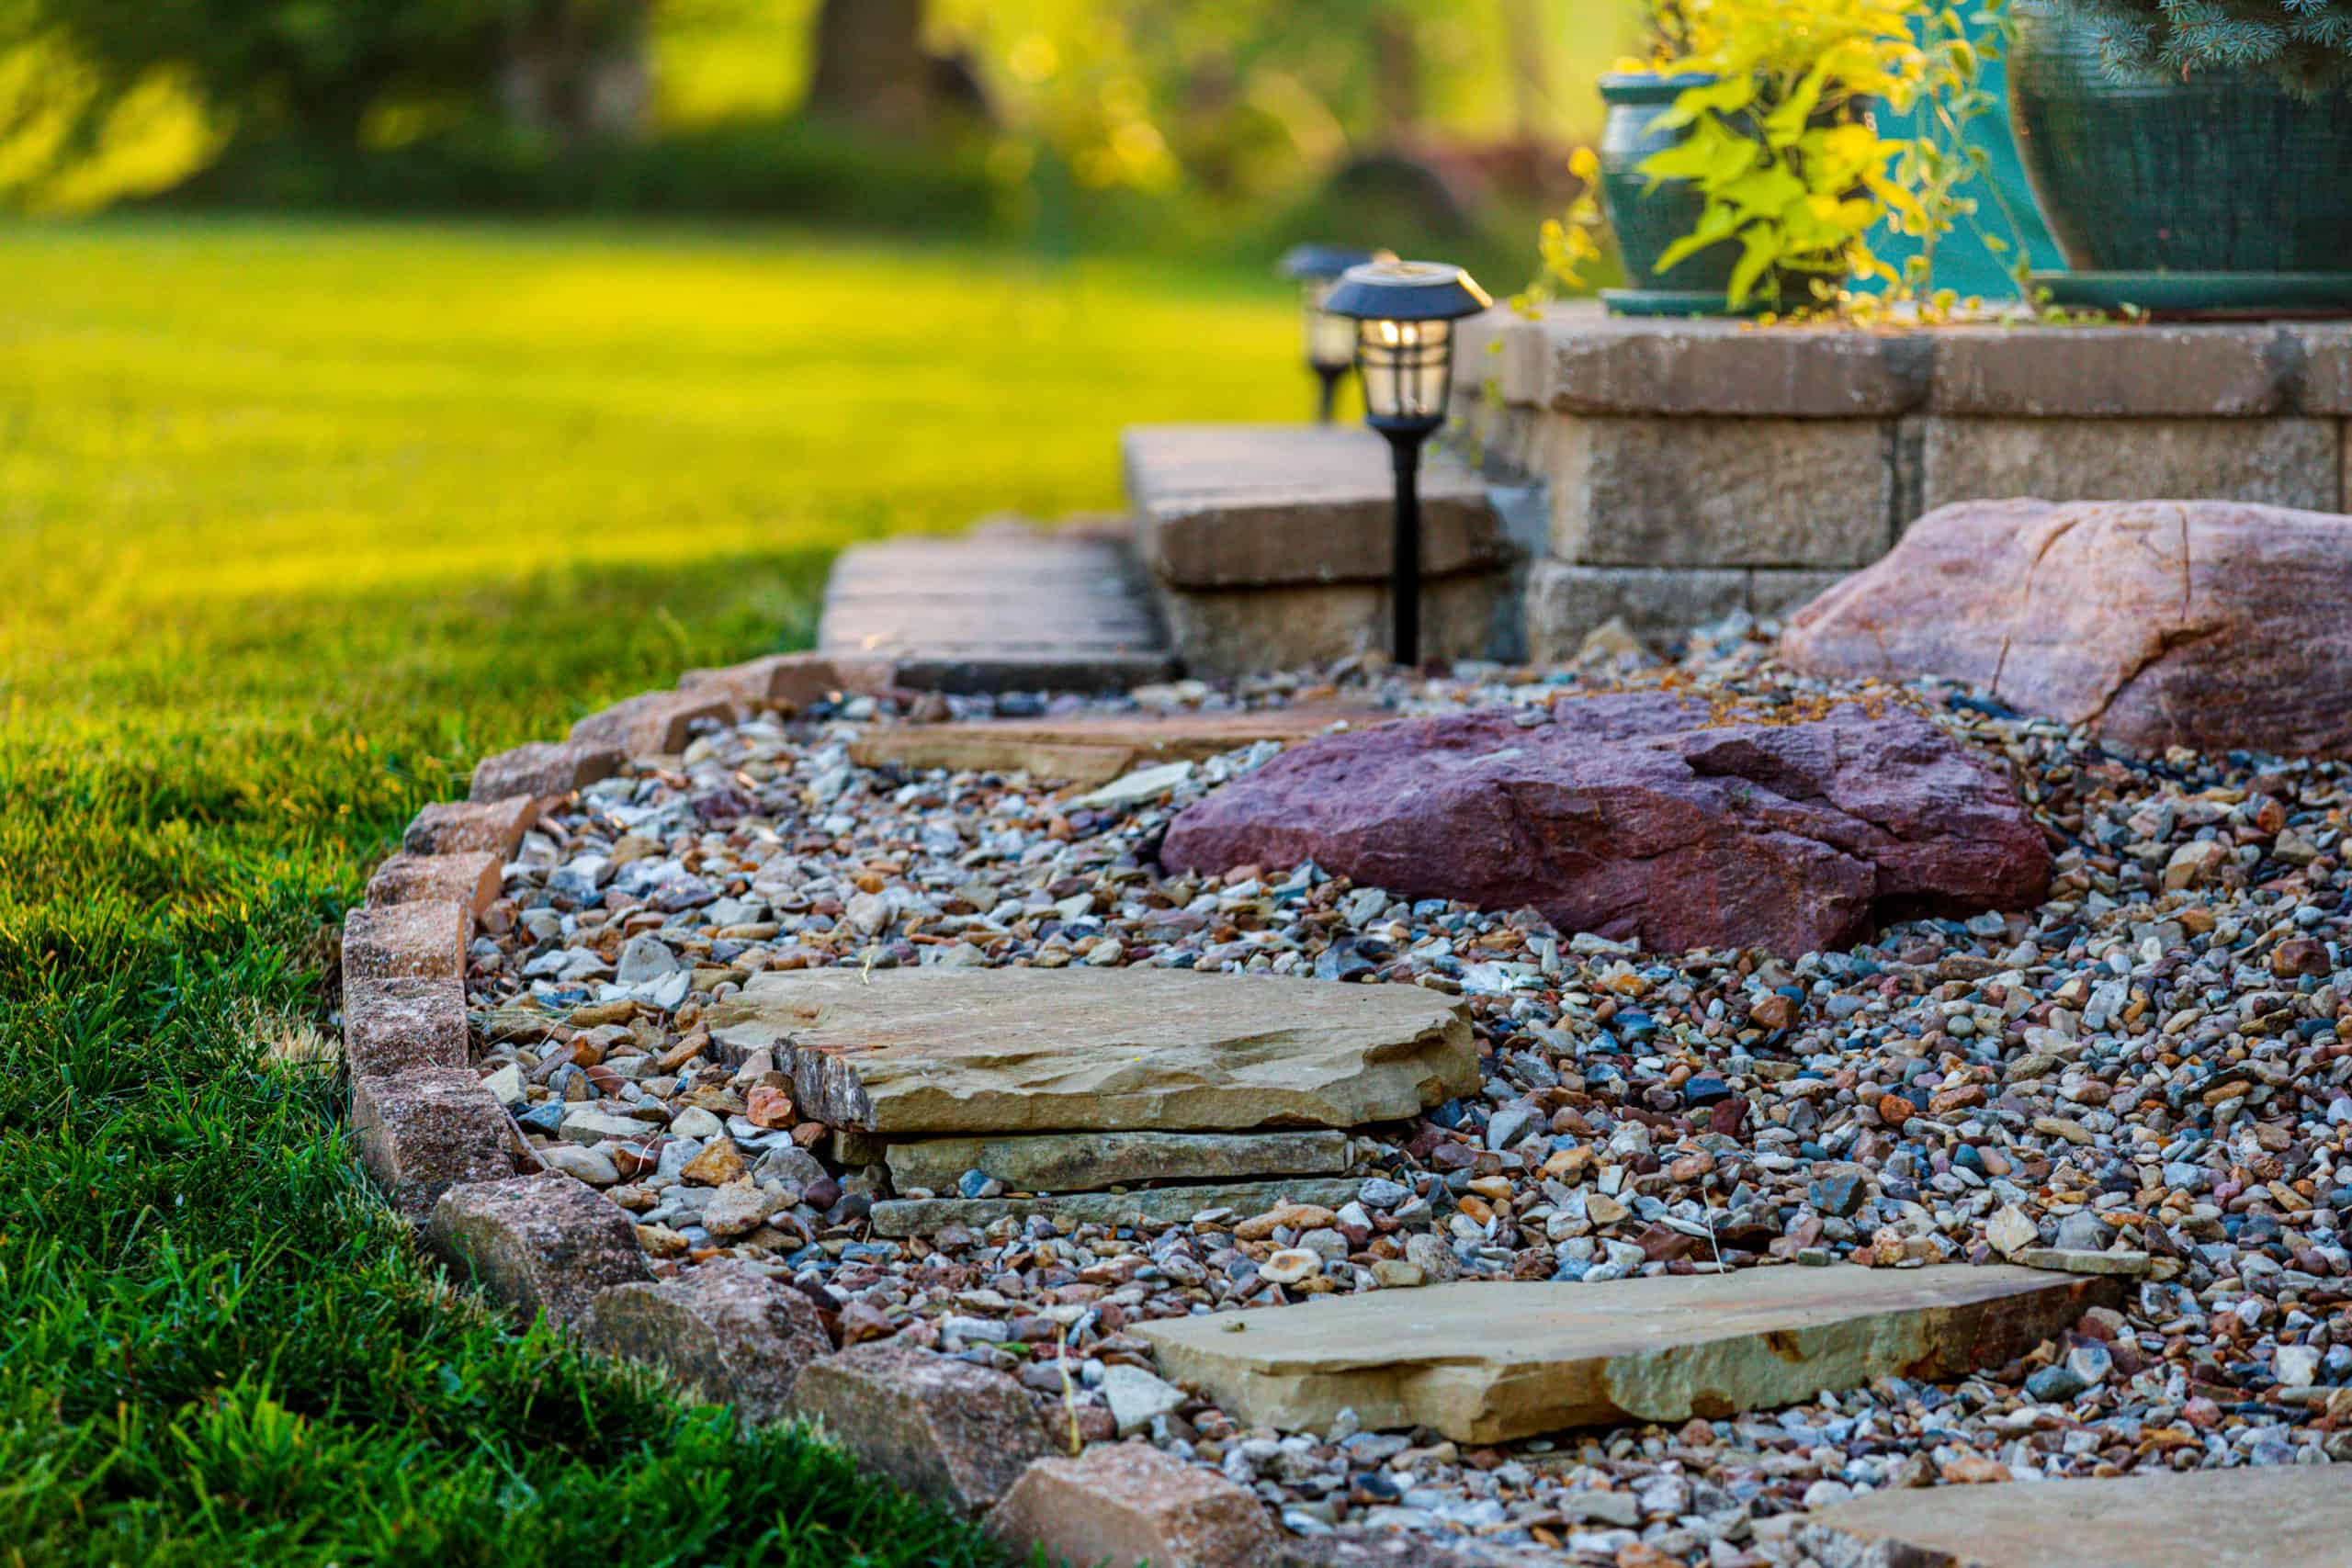grass: (5, 229, 406, 1558), (415, 229, 1293, 696), (415, 1298, 1011, 1566)
rock: (499, 626, 2345, 1559), (1792, 478, 2350, 754)
